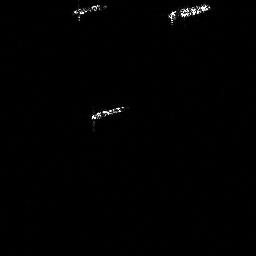ship: (88, 104, 132, 128), (166, 2, 211, 24), (72, 2, 107, 22)
